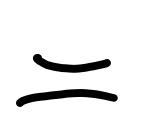eqv: (11, 50, 121, 111)
